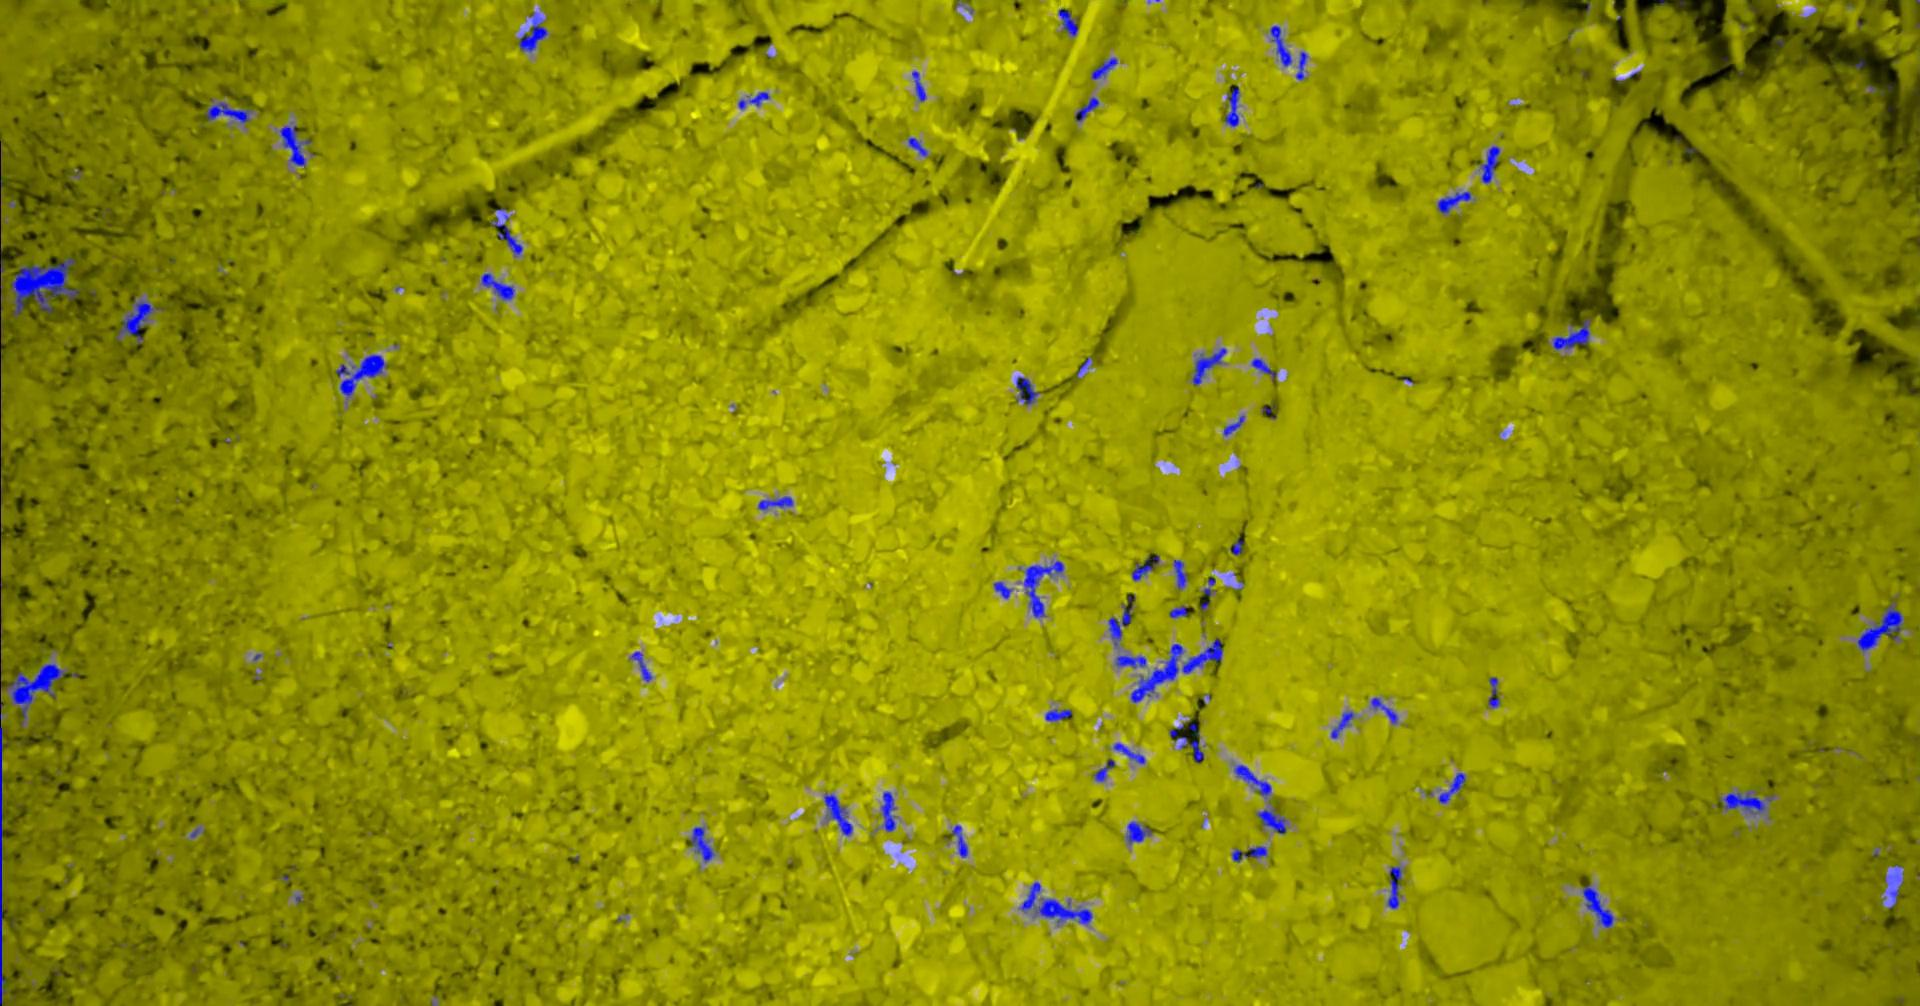ant: (1022, 882, 1095, 923), (1025, 560, 1065, 617), (1859, 600, 1903, 650), (337, 354, 389, 398), (1, 725, 9, 1005), (117, 298, 164, 342), (1171, 719, 1205, 762), (1583, 883, 1615, 927), (281, 124, 312, 166), (491, 216, 524, 255), (1194, 347, 1227, 385), (825, 793, 855, 835), (1236, 763, 1272, 796), (1554, 318, 1592, 349), (521, 11, 549, 51), (1721, 791, 1768, 813), (1110, 605, 1134, 645), (206, 102, 253, 122), (691, 826, 716, 861), (483, 273, 516, 300), (1271, 25, 1293, 66), (1440, 772, 1467, 803), (1258, 807, 1288, 833), (1439, 191, 1472, 213), (1482, 145, 1501, 183), (1133, 555, 1161, 580), (1371, 697, 1399, 723), (1115, 742, 1147, 763), (1017, 376, 1041, 404), (1332, 711, 1355, 738), (1225, 86, 1241, 126), (632, 652, 653, 681), (1233, 845, 1269, 861), (1389, 866, 1403, 908), (1076, 97, 1100, 121), (1128, 821, 1153, 843), (1092, 57, 1119, 79), (883, 791, 897, 831), (952, 824, 969, 857), (1060, 8, 1079, 36), (739, 91, 771, 108), (759, 495, 794, 511), (1253, 358, 1277, 380), (1095, 760, 1116, 781), (913, 70, 927, 102), (1175, 559, 1189, 589), (909, 137, 930, 156), (1225, 415, 1246, 434), (1117, 654, 1147, 667), (1297, 51, 1309, 79), (1046, 708, 1074, 720), (1490, 677, 1501, 708), (996, 580, 1015, 598), (1204, 577, 1217, 596), (1171, 605, 1189, 617), (1232, 539, 1244, 554)
